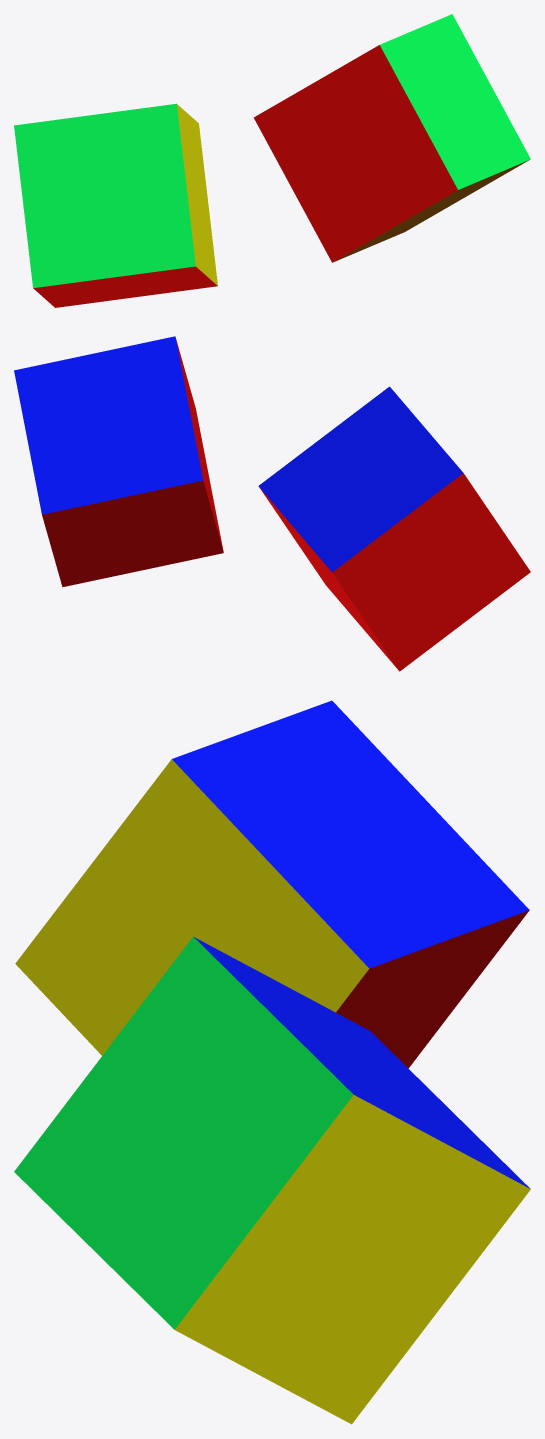
3 views of the same model, one above another, from view 1: azimuth 30°, elevation 25°; view 2: azimuth 150°, elevation 25°; view 3: azimuth 270°, elevation 25° (orthographic). The views are drawn at different scales.
Parts seen in each view (by area): view 1: Box002, Box001; view 2: Box001, Box002; view 3: Box002, Box001.
Boxes of the visible parts, x1,y1,x2,y2 form: Box002: [253, 14, 530, 262]; Box001: [14, 103, 217, 307]; Box001: [258, 386, 530, 671]; Box002: [14, 336, 223, 587]; Box002: [14, 936, 530, 1424]; Box001: [15, 700, 529, 1068].
Bounding box in the file's own units: 3.47 × 1.58 × 1.73.
